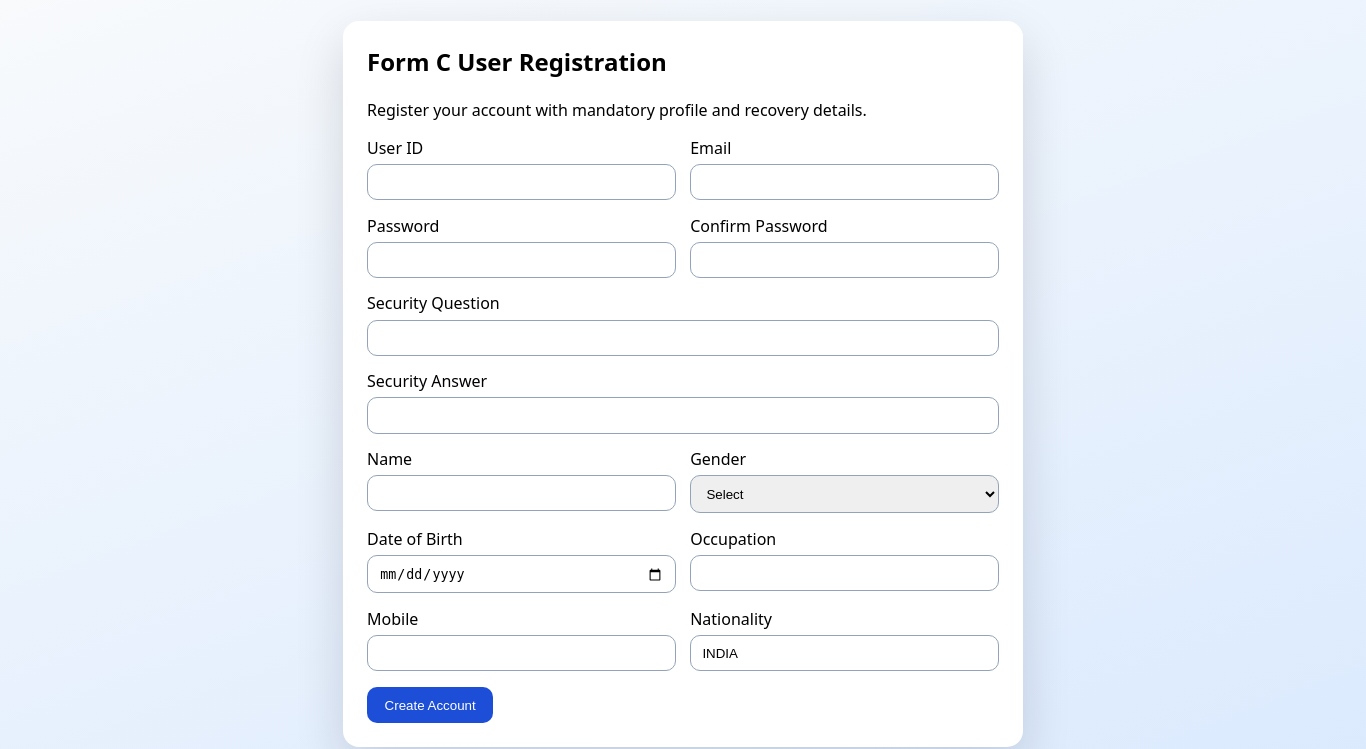
Test case: SignupPage › shows field validation errors on invalid submit
Click the button "Create Account" at (430, 705), box x1=367 y1=687 x2=493 y2=723
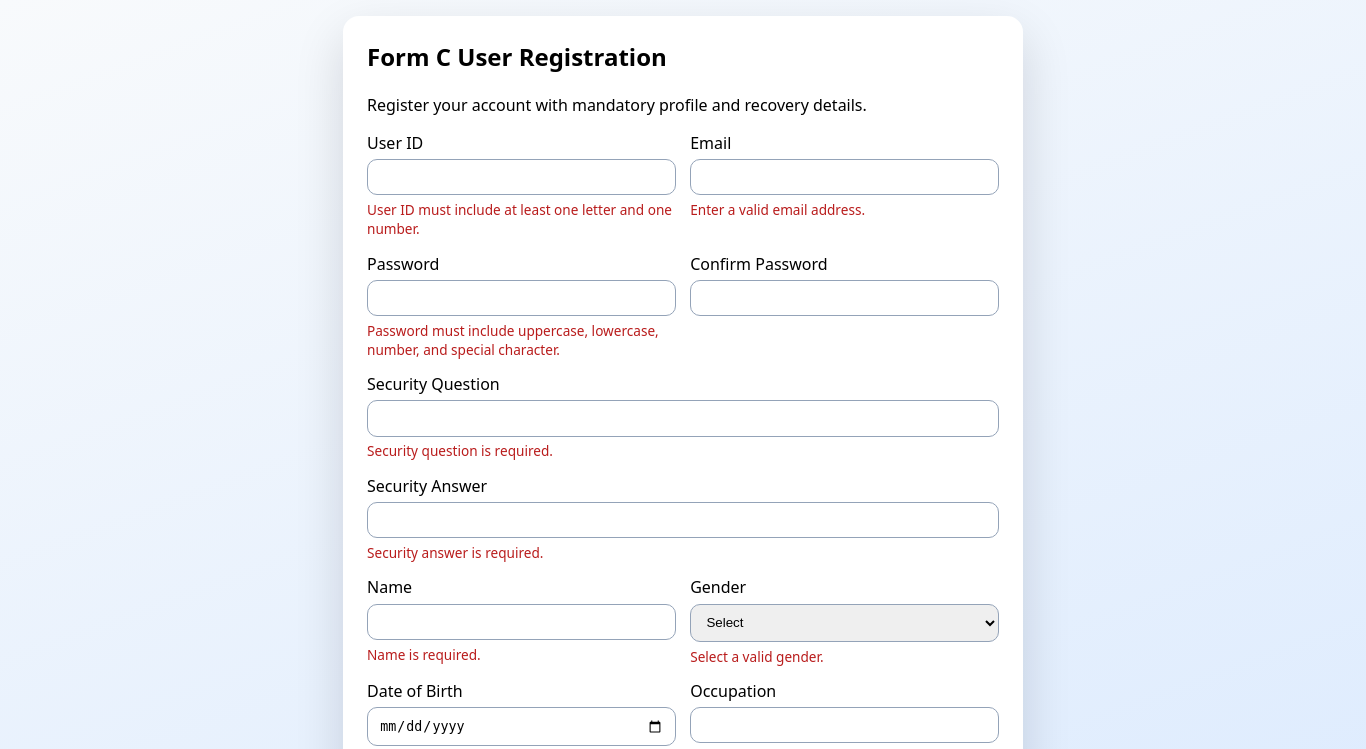
Expected: the text "User ID must include at least one letter and one number." is shown, x1=367 y1=200 x2=676 y2=238
Expected: the text "Password must include uppercase, lowercase, number, and special character." is shown, x1=367 y1=321 x2=676 y2=359
Expected: the text "Security question is required." is shown, x1=367 y1=441 x2=553 y2=460
